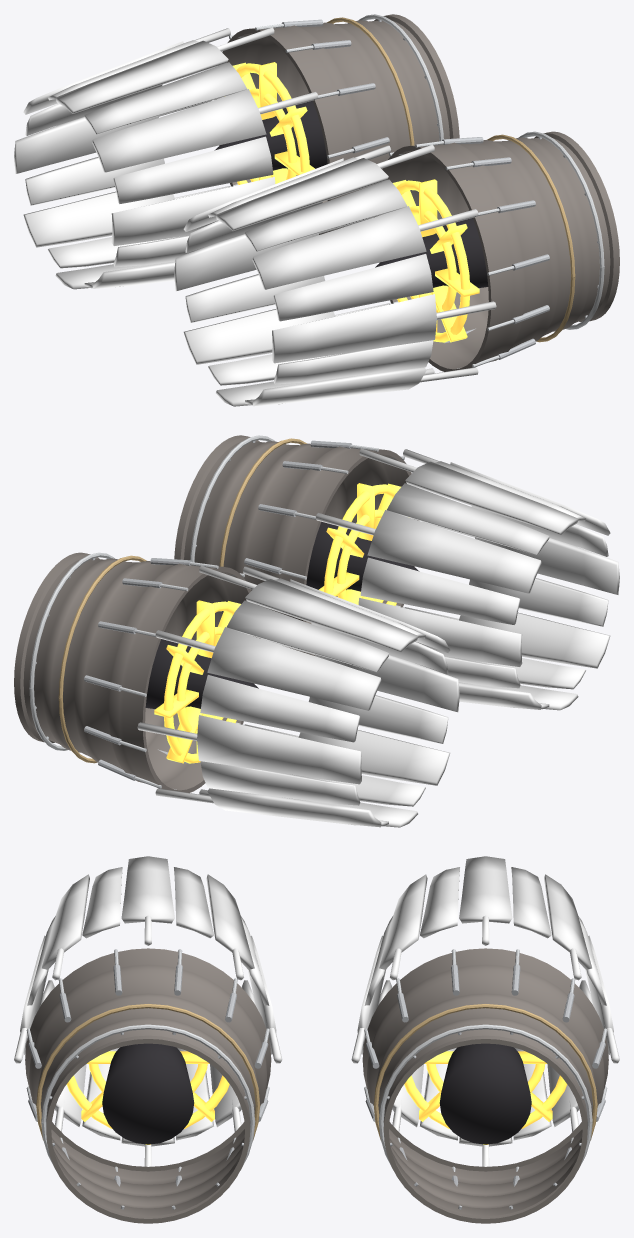
File: g4_afterburner.glb
3 views of the same model, one above another, from view 1: azimuth 30°, elevation 25°; view 2: azimuth 150°, elevation 25°; view 3: azimuth 270°, elevation 25° (orthographic). The views are drawn at different scales.
Visible parts, largest first — view 1: G4_nozzle_petals_R, G4_nozzle_petals_L, G4_ab_duct_R, G4_ab_duct_L, G4_nozzle_ab_R, G4_nozzle_ab_L; view 2: G4_nozzle_petals_L, G4_nozzle_petals_R, G4_ab_duct_L, G4_ab_duct_R, G4_nozzle_ab_L, G4_nozzle_ab_R; view 3: G4_ab_duct_L, G4_ab_duct_R, G4_nozzle_petals_L, G4_nozzle_petals_R, G4_nozzle_ab_L, G4_nozzle_ab_R.
Part boxes in pixels (x1,y1,x2,y2): G4_nozzle_petals_R: [174, 144, 496, 406]; G4_nozzle_petals_L: [14, 27, 318, 289]; G4_ab_duct_R: [374, 131, 619, 371]; G4_ab_duct_L: [214, 14, 459, 234]; G4_nozzle_ab_R: [375, 179, 488, 342]; G4_nozzle_ab_L: [214, 62, 327, 184]; G4_nozzle_petals_L: [137, 565, 459, 827]; G4_nozzle_petals_R: [315, 448, 619, 710]; G4_ab_duct_L: [14, 552, 259, 792]; G4_ab_duct_R: [174, 435, 419, 655]; G4_nozzle_ab_L: [145, 600, 258, 763]; G4_nozzle_ab_R: [306, 483, 419, 605]; G4_ab_duct_L: [362, 948, 608, 1223]; G4_ab_duct_R: [25, 948, 271, 1223]; G4_nozzle_petals_L: [351, 856, 619, 1166]; G4_nozzle_petals_R: [14, 856, 282, 1166]; G4_nozzle_ab_L: [404, 1043, 567, 1144]; G4_nozzle_ab_R: [66, 1043, 229, 1144].
Bounding box in the file's own units: 2.2 × 1.4 × 3.16.
